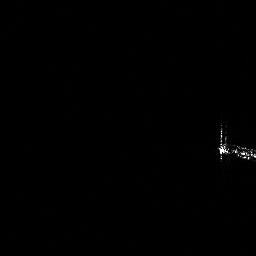ship: (219, 128, 256, 161)
